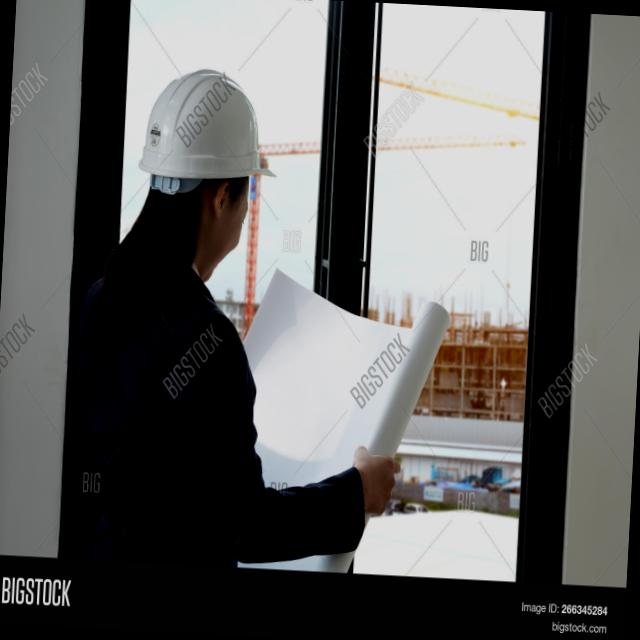helmet: (130, 56, 300, 194)
no-vest: (58, 266, 280, 556)
